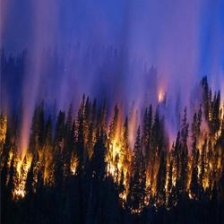fire: (177, 145, 210, 193), (99, 136, 131, 180), (12, 147, 28, 196)
